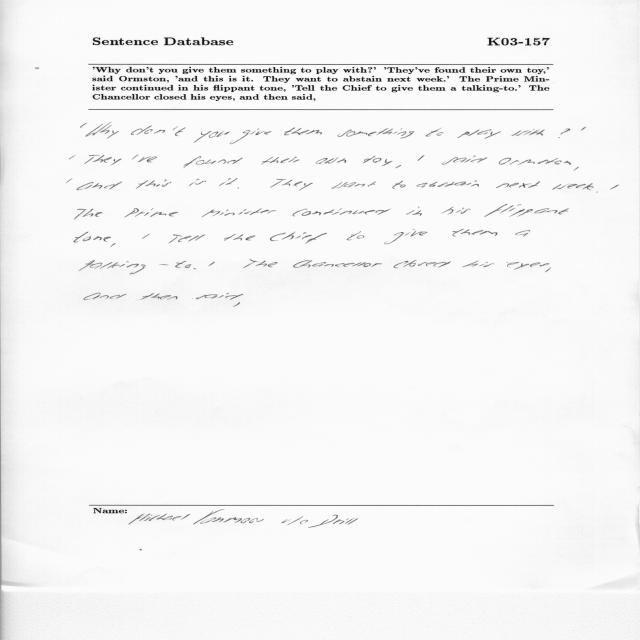word: (80, 260, 192, 274), (484, 204, 569, 217), (338, 128, 415, 139), (293, 208, 391, 216), (183, 156, 243, 168), (293, 260, 382, 268), (270, 232, 327, 244), (202, 208, 277, 217), (384, 230, 428, 245), (230, 129, 272, 144), (85, 122, 119, 139), (131, 126, 186, 136), (270, 179, 313, 191), (499, 158, 571, 165), (416, 180, 479, 188), (124, 208, 178, 217), (394, 260, 451, 268), (442, 155, 487, 165), (457, 129, 501, 139), (194, 131, 229, 143), (74, 232, 111, 243), (84, 155, 122, 165), (77, 182, 123, 190), (331, 181, 376, 189), (136, 179, 171, 189), (507, 262, 549, 270), (169, 235, 205, 244), (453, 230, 498, 237), (261, 157, 300, 165), (496, 181, 540, 188), (284, 128, 322, 136), (84, 293, 126, 300), (364, 156, 393, 166), (196, 294, 243, 300), (75, 209, 102, 219), (141, 293, 178, 300), (512, 129, 545, 136), (442, 207, 470, 215), (224, 234, 256, 241), (552, 184, 586, 190), (463, 261, 495, 267), (316, 158, 346, 164), (193, 262, 215, 270), (132, 155, 157, 162), (406, 206, 422, 216), (256, 261, 278, 268), (426, 128, 443, 137), (347, 231, 364, 240), (219, 178, 237, 186), (189, 178, 206, 186), (243, 259, 258, 268), (392, 181, 406, 189), (558, 129, 570, 138), (516, 230, 531, 237), (583, 183, 594, 190), (610, 185, 619, 190), (418, 155, 425, 161), (142, 234, 150, 239), (81, 123, 87, 128), (545, 268, 551, 273), (110, 244, 116, 248), (581, 127, 586, 131), (70, 155, 75, 159), (574, 167, 579, 171), (67, 179, 72, 183), (395, 165, 401, 168), (226, 293, 229, 295), (237, 188, 239, 189)
